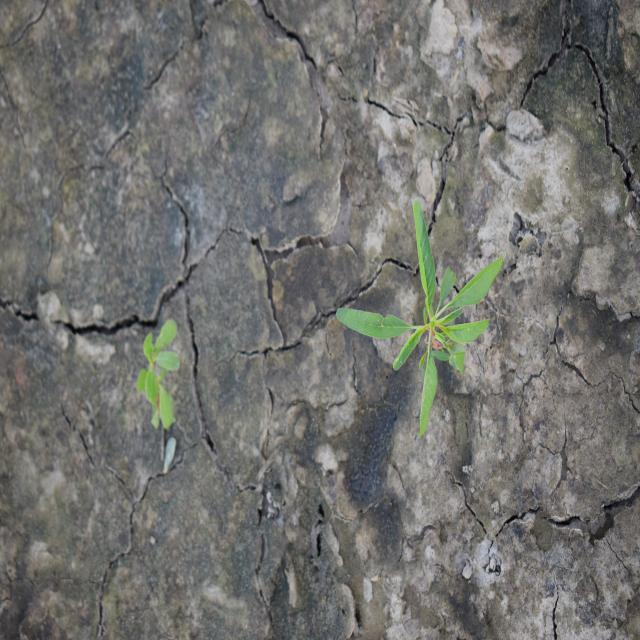Purslane: (134, 317, 182, 431)
Waterhemp: (334, 197, 505, 440)
